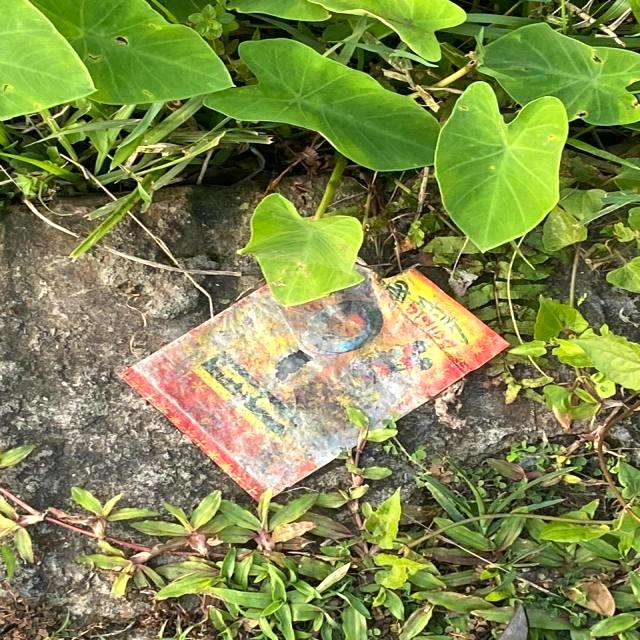packet: (109, 274, 488, 487)
